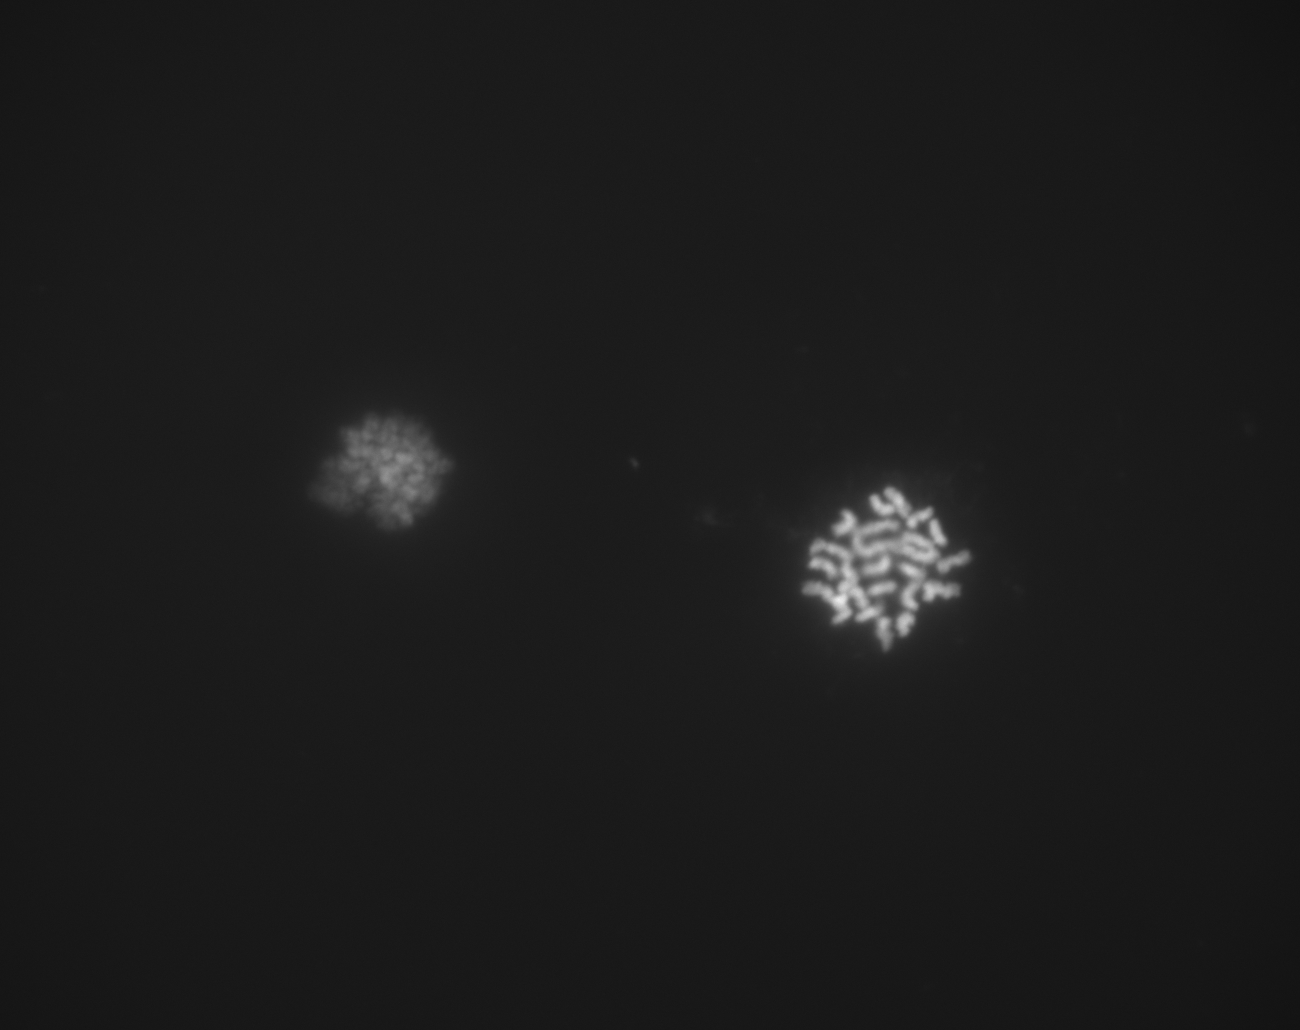Chromosomes: (780, 460, 994, 661)
Others: (288, 379, 472, 556)
